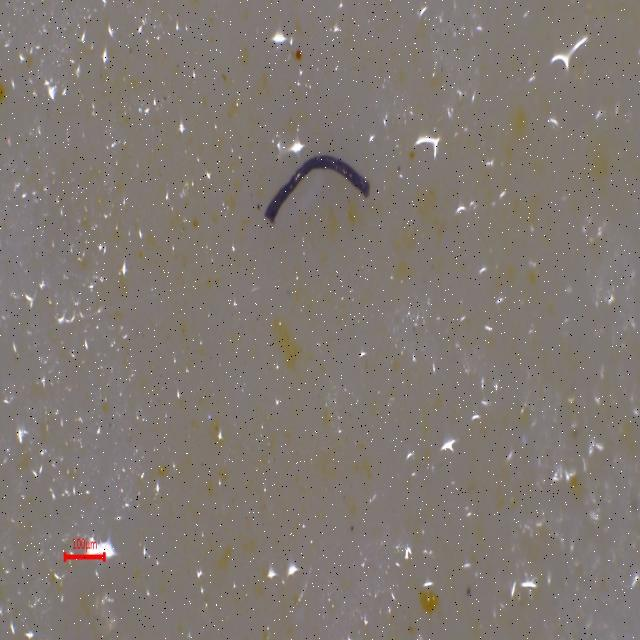fibers: (253, 144, 373, 222)
